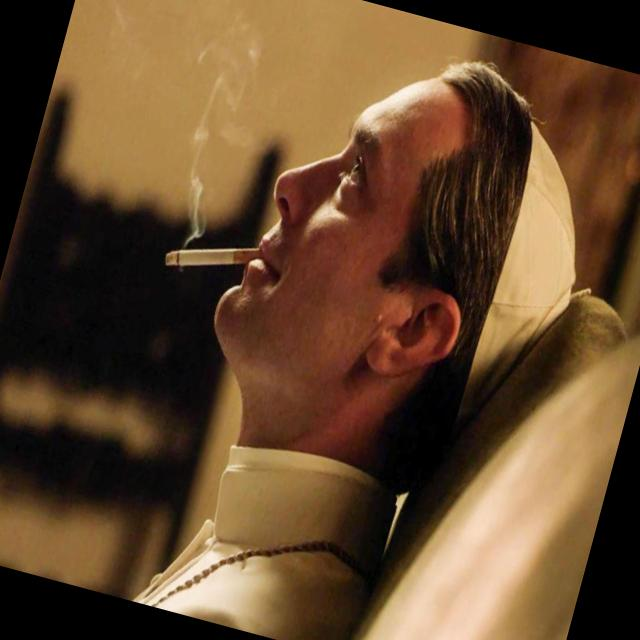cigarette: (130, 192, 284, 312)
